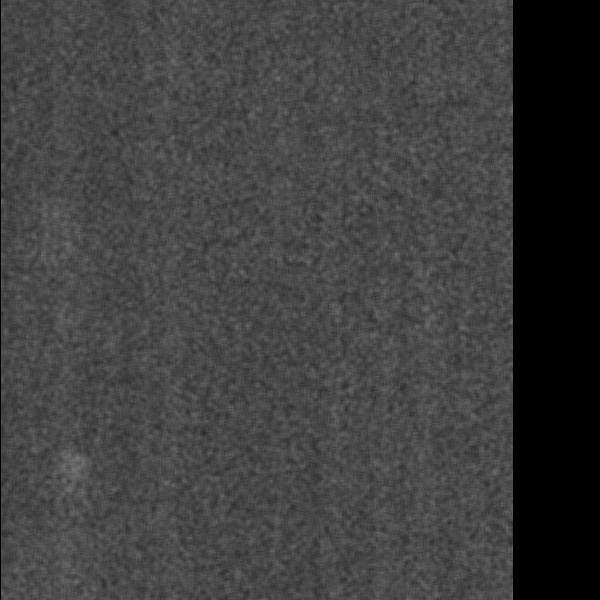spark: (403, 530, 448, 600), (369, 492, 430, 510)
